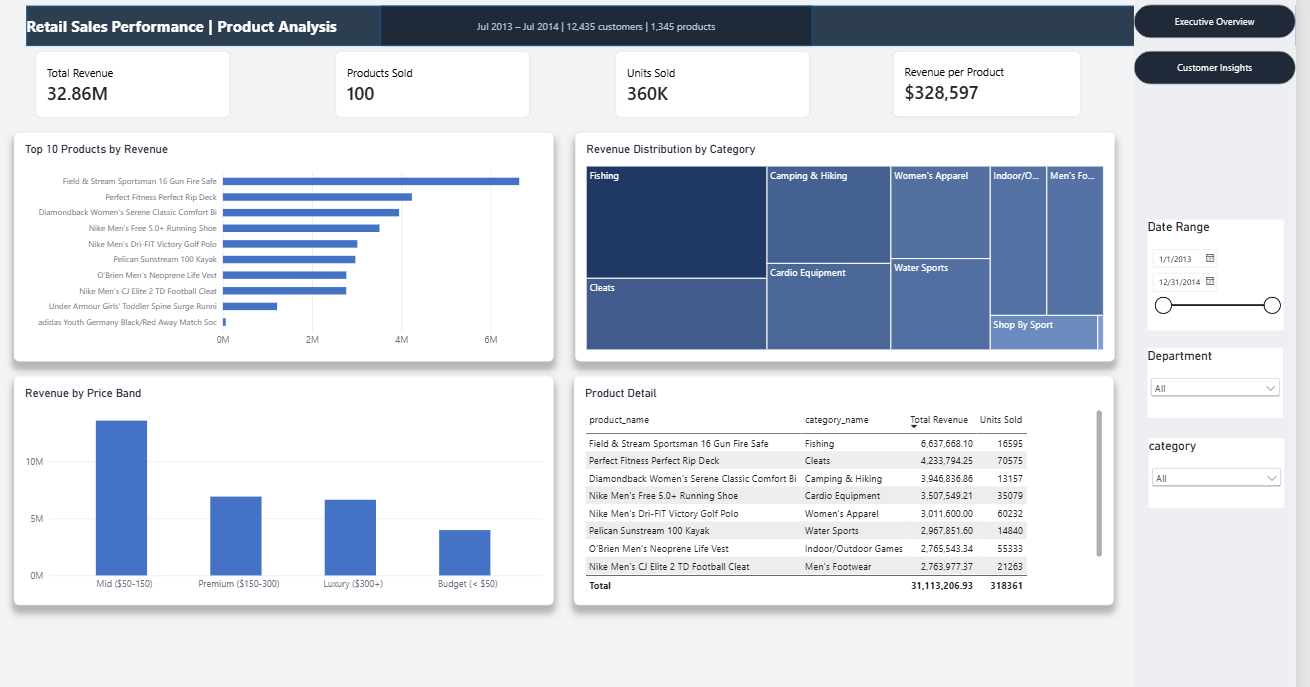

Layout of this report page (visuals, bound fields, positions):
{"tool":"powerbi","page":{"name":"Product Analysis","canvas":[1920,1080],"ordinal":1},"visuals":[{"type":"shape","box":[39.8,12.7,1880.2,59.7],"z":0},{"type":"cardVisual","fields":{"Data":["Measure.Total Revenue"]},"box":[52.5,79.6,290,100],"z":1},{"type":"cardVisual","fields":{"Data":["Measure.Units Sold"]},"box":[910.3,79.6,290,100],"z":2},{"type":"cardVisual","fields":{"Data":["Measure.Products Sold"]},"box":[495.8,79.6,290,100],"z":3},{"type":"cardVisual","fields":{"Data":["Measure.Revenue per Product"]},"box":[1322.9,79.6,280.5,99.5],"z":4},{"type":"shape","box":[1680,0,240,1080.4],"z":5},{"type":"slicer","title":"Date Range","fields":{"Values":["bi dim_date.date_key"]},"box":[1700.9,329.2,200.9,162.9],"z":6},{"type":"slicer","title":"Department","fields":{"Values":["bi dim_product.department_name"]},"box":[1700.9,521,200.9,103.2],"z":7},{"type":"shape","box":[562.8,12.7,640.6,59.7],"z":8},{"type":"clusteredBarChart","title":"Top 10 Products by Revenue","fields":{"Category":["bi dim_product.product_name"],"Y":["Measure.Total Revenue"]},"box":[20.6,199.7,800,339.6],"z":9},{"type":"treemap","title":"Revenue Distribution by Category","fields":{"Group":["bi dim_product.category_name"],"Values":["Measure.Total Revenue"]},"box":[852.1,199.7,800,339.6],"z":10},{"type":"clusteredColumnChart","title":"Revenue by Price Band","fields":{"Category":["bi dim_product.price_band"],"Y":["Measure.Total Revenue"]},"box":[20.6,561.9,800,339.6],"z":11},{"type":"tableEx","title":"Product Detail","fields":{"Values":["bi dim_product.product_name","bi dim_product.category_name","Measure.Total Revenue","Measure.Units Sold"]},"box":[850.1,561.9,800,339.6],"z":12},{"type":"slicer","title":"Department","fields":{"Values":["bi dim_product.category_name"]},"box":[1701.6,653.6,200.9,103.2],"z":13},{"type":"pageNavigator","box":[1680,12,240,50],"z":14},{"type":"pageNavigator","box":[1680,80,240,50],"z":15}]}

Visuals, with their boxes on the page's 1920x1080 design canvas (x1, y1, x2, y2). These are canvas units, not pixel positions in the 1310x687 screenshot, which may show the page scaled, cropped or inside an application window:
shape: 40:13:1920:72
cardVisual - Measure.Total Revenue: 52:80:342:180
cardVisual - Measure.Units Sold: 910:80:1200:180
cardVisual - Measure.Products Sold: 496:80:786:180
cardVisual - Measure.Revenue per Product: 1323:80:1603:179
shape: 1680:0:1920:1080
"Date Range" slicer: 1701:329:1902:492
"Department" slicer: 1701:521:1902:624
shape: 563:13:1203:72
"Top 10 Products by Revenue" clusteredBarChart: 21:200:821:539
"Revenue Distribution by Category" treemap: 852:200:1652:539
"Revenue by Price Band" clusteredColumnChart: 21:562:821:902
"Product Detail" tableEx: 850:562:1650:902
"Department" slicer: 1702:654:1902:757
pageNavigator: 1680:12:1920:62
pageNavigator: 1680:80:1920:130
